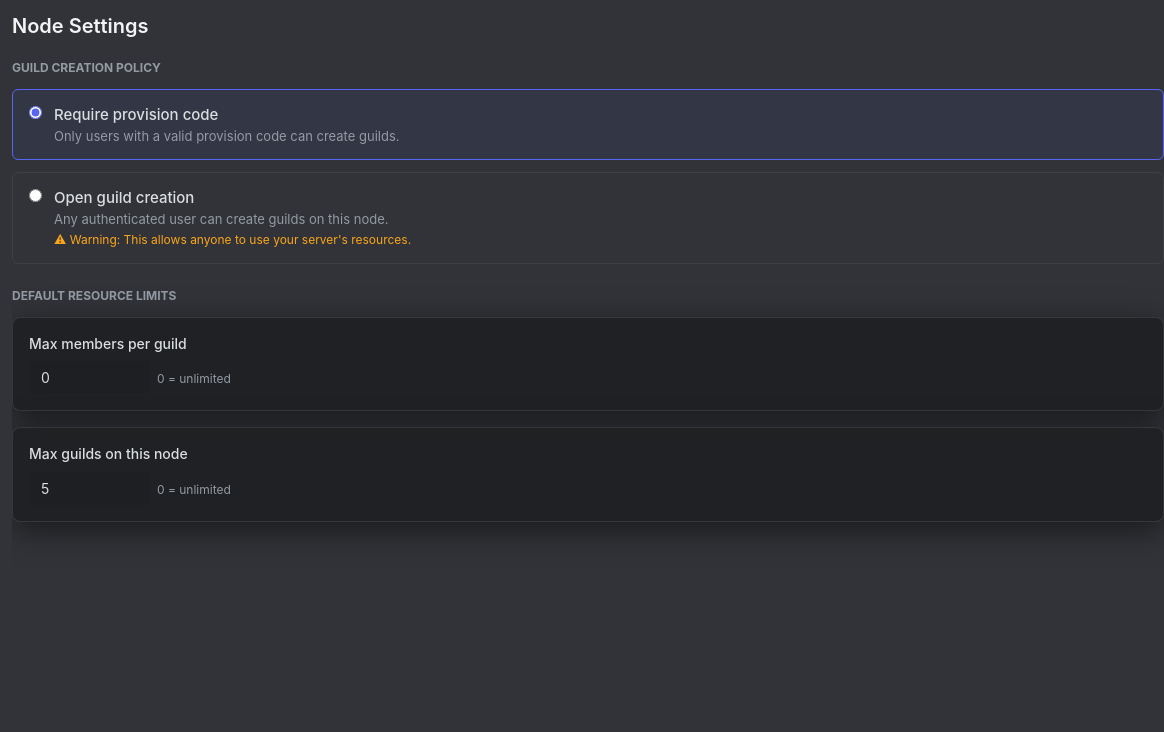
Test: Save Banner Integration › NodeSettings: shows banner on edit, hides on save, saves data via API
The width and height of the screenshot is (1164, 732).
Expected: the text "Careful — you have unsaved changes!" is not shown
Note: Change a value
Replace the text in the number field with test id "max-guilds-setting" with "10" at (89, 488), box [29,472,149,505]
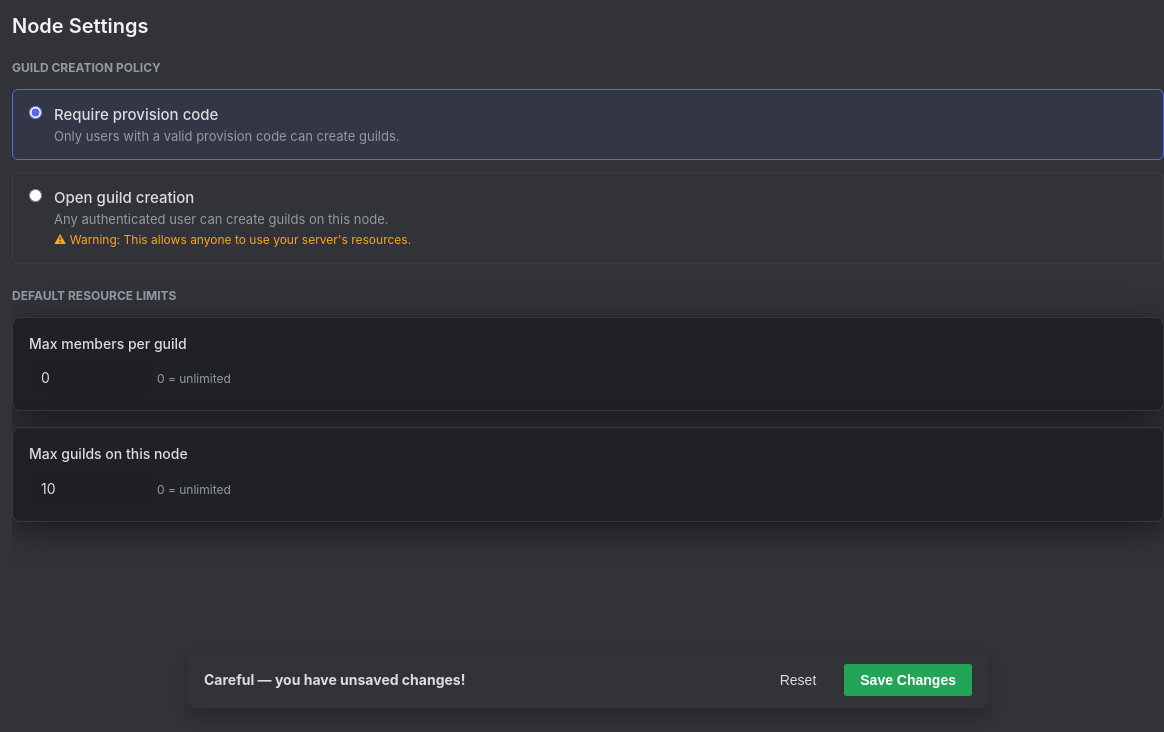
Now the text "Careful — you have unsaved changes!" is shown, box [204,670,465,690]
Note: Click save
Click the button "Save Changes" at (908, 680), box [844,664,972,696]
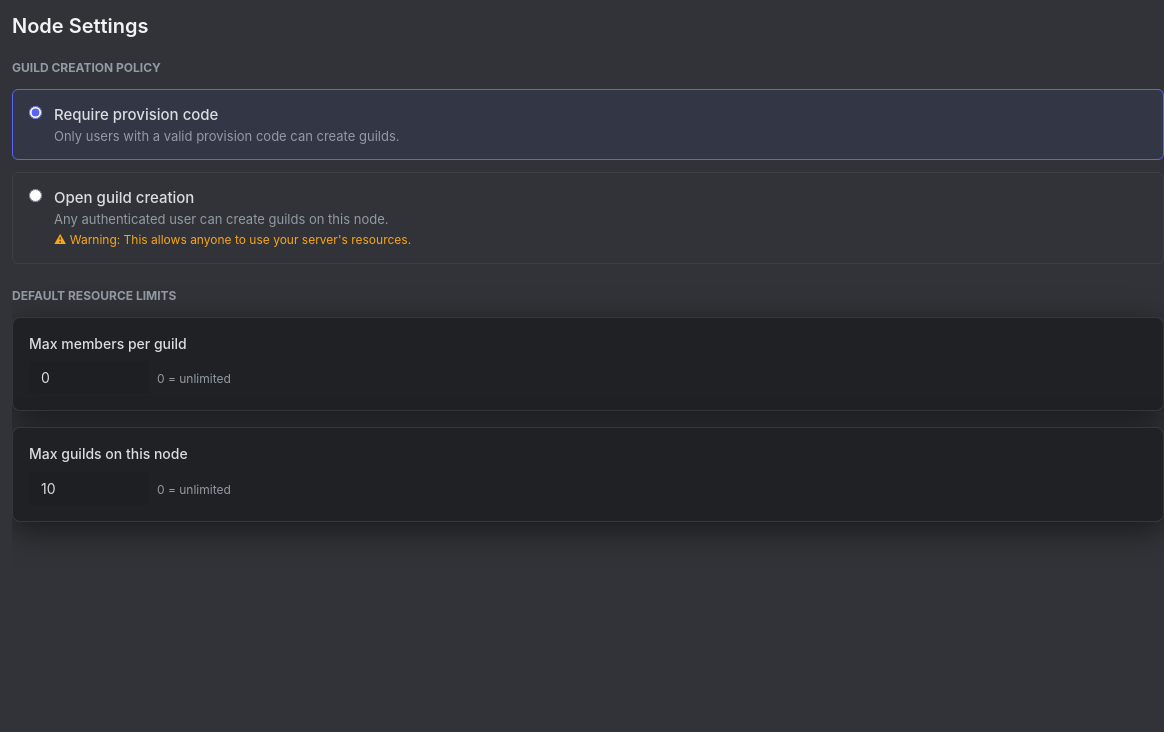
Now the text "Careful — you have unsaved changes!" is gone
